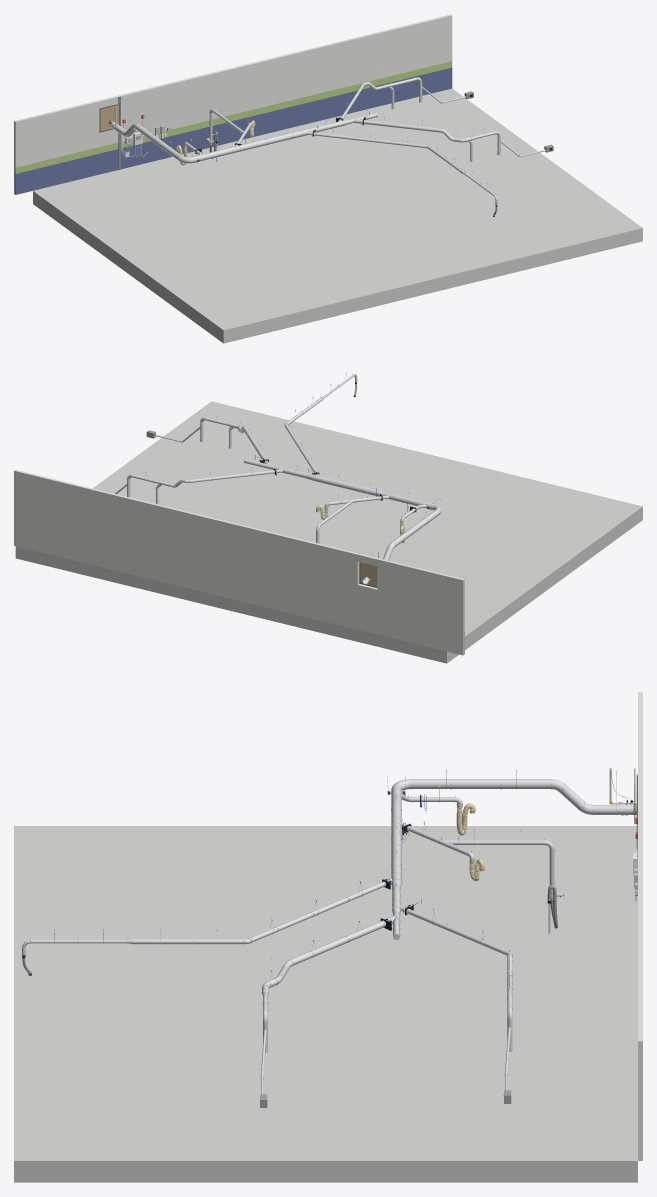
File: shop_interior.glb
3 renders of one model, top to bottom at view 1: azimuth 30°, elevation 25°; view 2: azimuth 150°, elevation 25°; view 3: azimuth 270°, elevation 25°, orthographic. The views are drawn at different scales.
Visible parts, largest first — view 1: Ctx_ShopFloorSlab, Ctx_WallHi_E, Ctx_WallLo_BandNavy, Ctx_WallLo_E, Ctx_WallHi_W, Ctx_WallLo_BandGreen, Ctx_WallLo_W, Duct_Branch_EB2, Duct_Trunk_Main, Duct_Branch_PanelSaw, Duct_Branch_EB1, Duct_Trunk_North; view 2: Ctx_ShopFloorSlab, Ctx_WallLo_E, Ctx_WallHi_E, Ctx_WallLo_W, Ctx_WallHi_W, Ctx_WallLo_Sill, Duct_Trunk_Main, Duct_Branch_EB1, Duct_Branch_EB2, Duct_Trunk_North, Duct_Branch_PanelSaw; view 3: Ctx_ShopFloorSlab, Duct_Trunk_North, Duct_Branch_PanelSaw, Duct_Branch_EB2, Ctx_WallHi_E, Duct_Branch_EB1, Duct_Trunk_Main, Duct_Branch_BinDrop.
Part boxes in pixels (left/top/right/bottom): Ctx_ShopFloorSlab: left=33, top=88, right=642, bottom=343; Ctx_WallHi_E: left=117, top=14, right=452, bottom=127; Ctx_WallLo_BandNavy: left=15, top=67, right=452, bottom=194; Ctx_WallLo_E: left=121, top=48, right=452, bottom=141; Ctx_WallHi_W: left=14, top=100, right=98, bottom=153; Ctx_WallLo_BandGreen: left=15, top=61, right=452, bottom=173; Ctx_WallLo_W: left=14, top=134, right=98, bottom=194; Duct_Branch_EB2: left=353, top=119, right=553, bottom=161; Duct_Trunk_Main: left=193, top=128, right=310, bottom=162; Duct_Branch_PanelSaw: left=306, top=131, right=497, bottom=207; Duct_Branch_EB1: left=338, top=77, right=473, bottom=121; Duct_Trunk_North: left=110, top=121, right=194, bottom=163; Ctx_ShopFloorSlab: left=15, top=401, right=642, bottom=663; Ctx_WallLo_E: left=14, top=504, right=357, bottom=629; Ctx_WallHi_E: left=14, top=469, right=359, bottom=587; Ctx_WallLo_W: left=377, top=592, right=464, bottom=655; Ctx_WallHi_W: left=377, top=558, right=464, bottom=613; Ctx_WallLo_Sill: left=357, top=588, right=377, bottom=634; Duct_Trunk_Main: left=312, top=474, right=434, bottom=510; Duct_Branch_EB1: left=115, top=469, right=282, bottom=504; Duct_Branch_EB2: left=146, top=417, right=269, bottom=464; Duct_Trunk_North: left=362, top=504, right=441, bottom=584; Duct_Branch_PanelSaw: left=284, top=373, right=357, bottom=475; Ctx_ShopFloorSlab: left=14, top=826, right=637, bottom=1182; Duct_Trunk_North: left=391, top=779, right=632, bottom=815; Duct_Branch_PanelSaw: left=21, top=878, right=391, bottom=958; Duct_Branch_EB2: left=259, top=915, right=395, bottom=1107; Ctx_WallHi_E: left=638, top=774, right=642, bottom=1093; Duct_Branch_EB1: left=400, top=905, right=512, bottom=1103; Duct_Trunk_Main: left=391, top=785, right=402, bottom=882; Duct_Branch_BinDrop: left=443, top=839, right=564, bottom=903.
Bounding box in the file's own units: 25 × 4.72 × 19.05.
